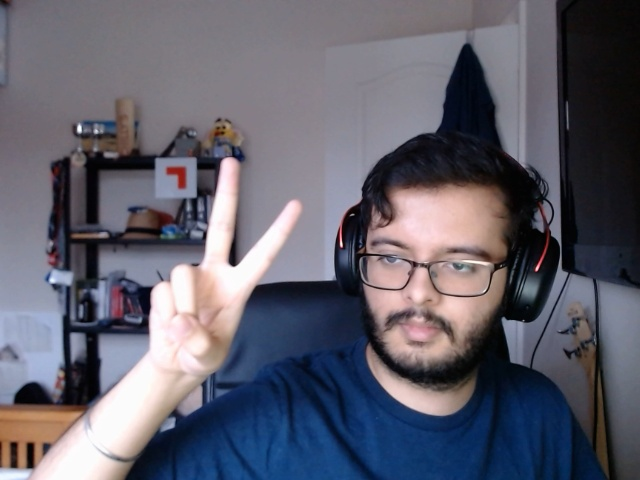Peace: (127, 154, 329, 389)
